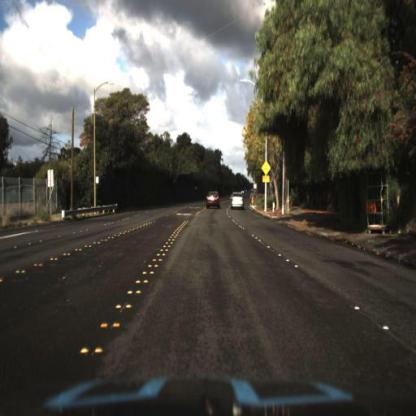car: (205, 188, 223, 214), (229, 191, 247, 212)
